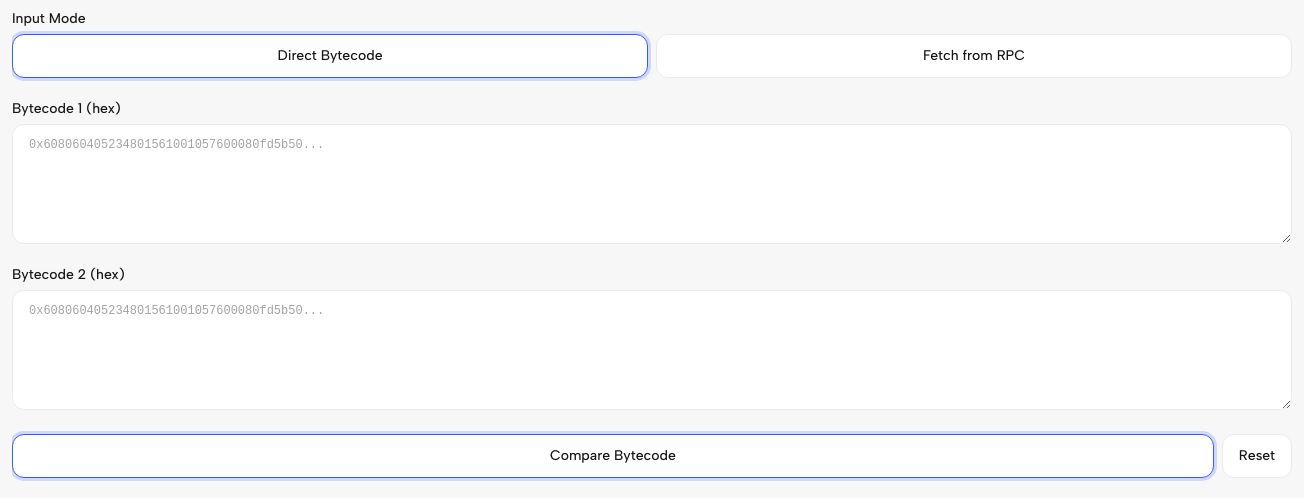
Test: BytecodeDifferTool › switches to fetch from RPC mode
Click the button "Fetch from RPC": (974, 56) 656,34 -> 1292,78
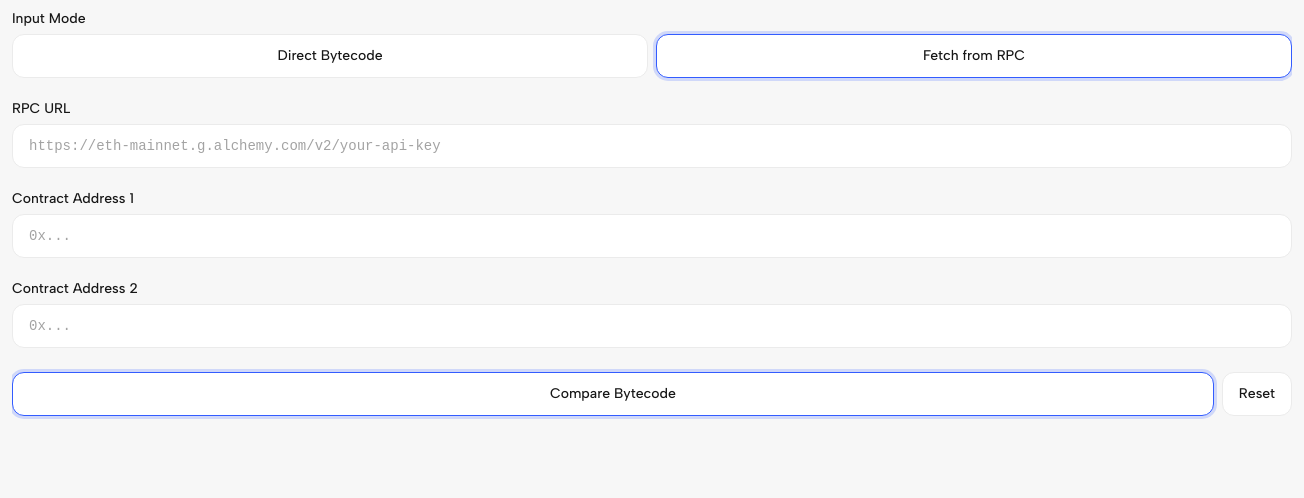
Expected: the text "RPC URL" is shown, 12,100 -> 70,117
Expected: the text "Contract Address 1" is shown, 12,190 -> 134,207
Expected: the text "Contract Address 2" is shown, 12,280 -> 138,297
